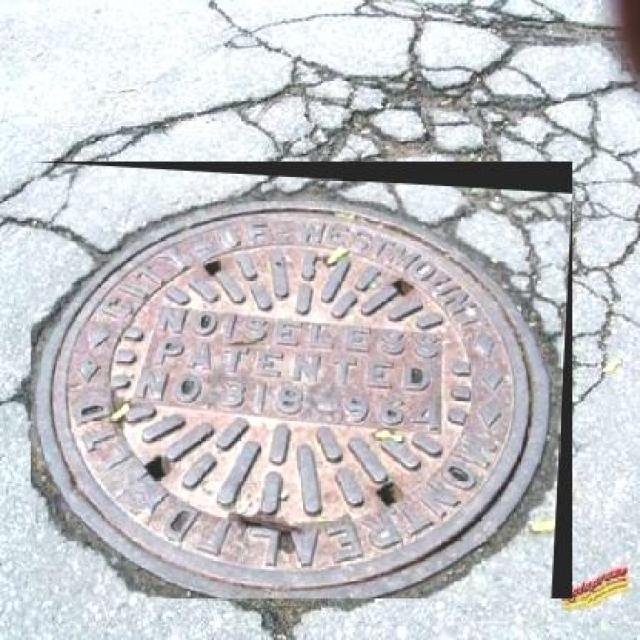Manhole: (30, 162, 572, 598)
